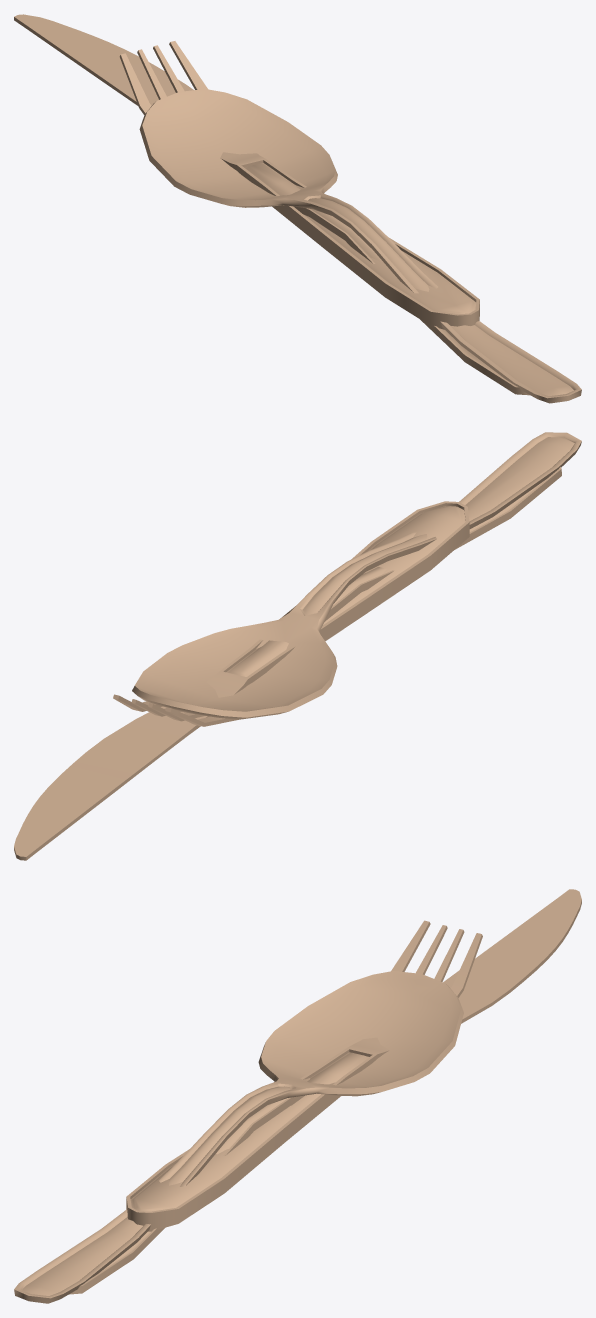
Rendered from tableware.fbx.
3 views of the same model, one above another, from view 1: azimuth 30°, elevation 25°; view 2: azimuth 150°, elevation 25°; view 3: azimuth 330°, elevation 25° (orthographic). The views are drawn at different scales.
Parts seen in each view (by area): view 1: Tableware_1_spoon, Tableware_1_knife, Tableware_1_fork; view 2: Tableware_1_spoon, Tableware_1_knife, Tableware_1_fork; view 3: Tableware_1_spoon, Tableware_1_knife, Tableware_1_fork.
Boxes of the visible parts, box(x1,y1,x2,y2) form: Tableware_1_spoon: box(139, 89, 581, 403); Tableware_1_knife: box(14, 14, 479, 329); Tableware_1_fork: box(119, 41, 529, 395); Tableware_1_spoon: box(132, 432, 581, 719); Tableware_1_knife: box(14, 501, 469, 860); Tableware_1_fork: box(113, 467, 561, 726); Tableware_1_spoon: box(14, 971, 463, 1303); Tableware_1_knife: box(126, 889, 581, 1231); Tableware_1_fork: box(69, 920, 482, 1294).
Bounding box in the file's own units: 4.45 × 1.88 × 27.66.
